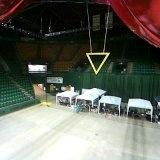Yellow_Triangle_Gshape: (85, 51, 108, 74)
